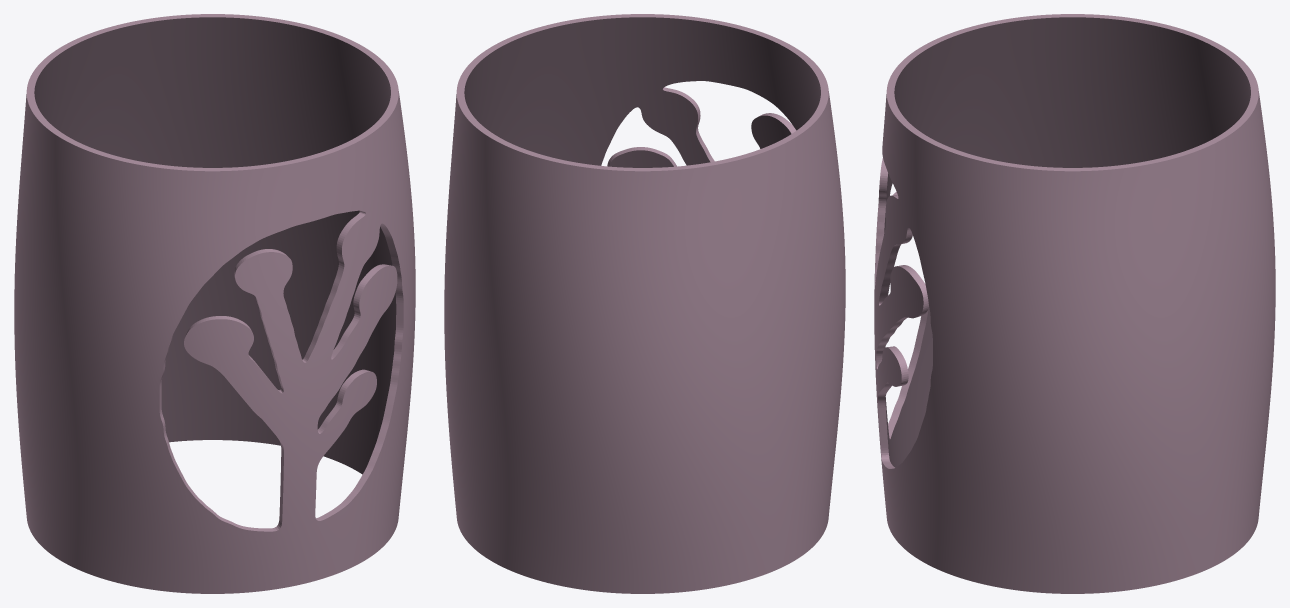
Rendered from night-orchard.glb.
The picture shows the model from 3 angles, left to right: view 1: azimuth 30°, elevation 25°; view 2: azimuth 150°, elevation 25°; view 3: azimuth 270°, elevation 25°; orthographic projection.
Visible parts, largest first — view 1: night-orchard; view 2: night-orchard; view 3: night-orchard.
Boxes of the visible parts, left/top/right/bottom form: night-orchard: left=14, top=14, right=415, bottom=593; night-orchard: left=444, top=14, right=845, bottom=593; night-orchard: left=874, top=14, right=1275, bottom=593.
Size of the model in its own units: 144 by 168 by 145.
